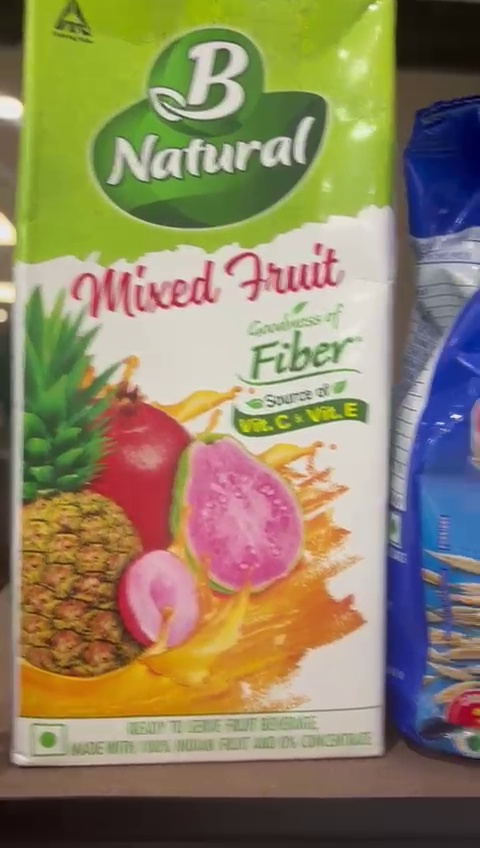Mixed Fruit: (24, 0, 380, 765)
